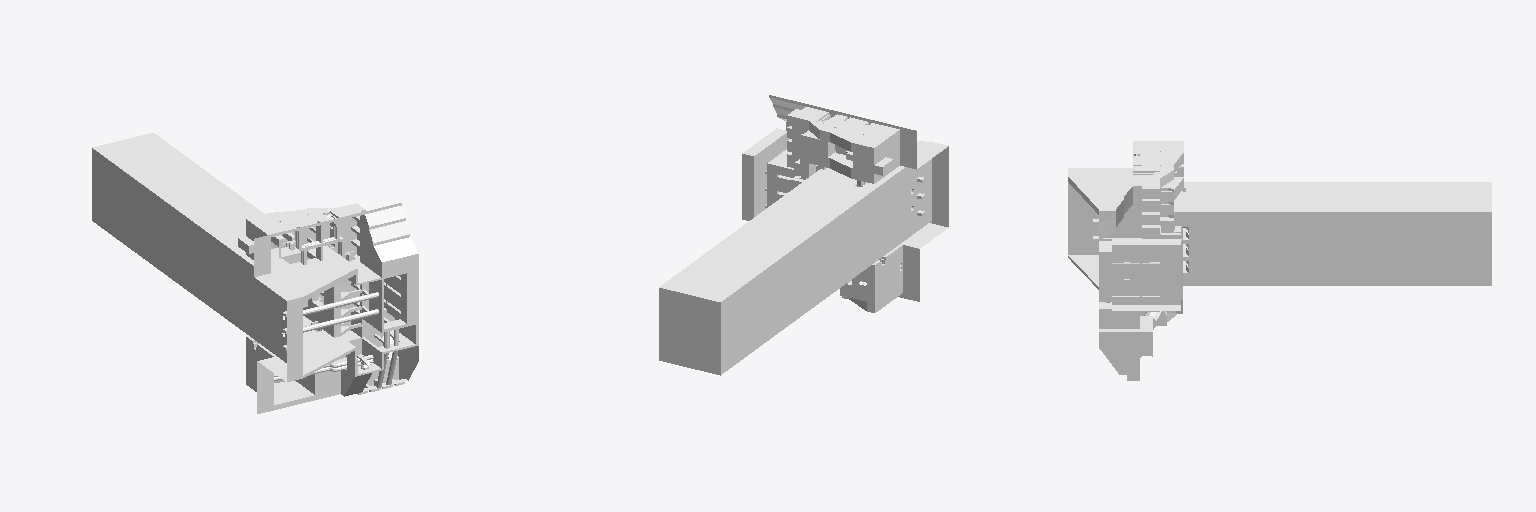
The model's file is damnation_Lightmap.obj.
3 views of the same model, side by side, from view 1: azimuth 30°, elevation 25°; view 2: azimuth 150°, elevation 25°; view 3: azimuth 270°, elevation 25° (orthographic).
Parts seen in each view (by area): view 1: damnation_Lightmap_0, damnation_Lightmap_2, damnation_Lightmap_1, damnation_Lightmap_4, damnation_Lightmap_7, damnation_Lightmap_6; view 2: damnation_Lightmap_0, damnation_Lightmap_8, damnation_Lightmap_2, damnation_Lightmap_1, damnation_Lightmap_9, damnation_Lightmap_4, damnation_Lightmap_7; view 3: damnation_Lightmap_0, damnation_Lightmap_9, damnation_Lightmap_8, damnation_Lightmap_7, damnation_Lightmap_2, damnation_Lightmap_4.
Boxes of the visible parts, x1,y1,x2,y2 form: damnation_Lightmap_0: [92, 133, 418, 387]; damnation_Lightmap_2: [246, 330, 407, 413]; damnation_Lightmap_1: [92, 168, 406, 350]; damnation_Lightmap_4: [238, 214, 320, 268]; damnation_Lightmap_7: [303, 203, 365, 266]; damnation_Lightmap_6: [282, 211, 364, 264]; damnation_Lightmap_0: [659, 95, 948, 374]; damnation_Lightmap_8: [659, 288, 720, 375]; damnation_Lightmap_2: [840, 223, 948, 312]; damnation_Lightmap_1: [721, 156, 924, 357]; damnation_Lightmap_9: [742, 128, 788, 220]; damnation_Lightmap_4: [830, 120, 899, 185]; damnation_Lightmap_7: [787, 109, 842, 178]; damnation_Lightmap_0: [1068, 141, 1491, 374]; damnation_Lightmap_9: [1112, 239, 1180, 310]; damnation_Lightmap_8: [1189, 232, 1491, 268]; damnation_Lightmap_7: [1133, 166, 1173, 238]; damnation_Lightmap_2: [1127, 286, 1182, 380]; damnation_Lightmap_4: [1142, 141, 1183, 199].
Size of the model in its own units: 2797 by 3187 by 6820.